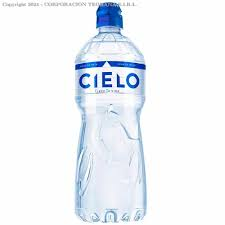Botella: (75, 2, 146, 221)
